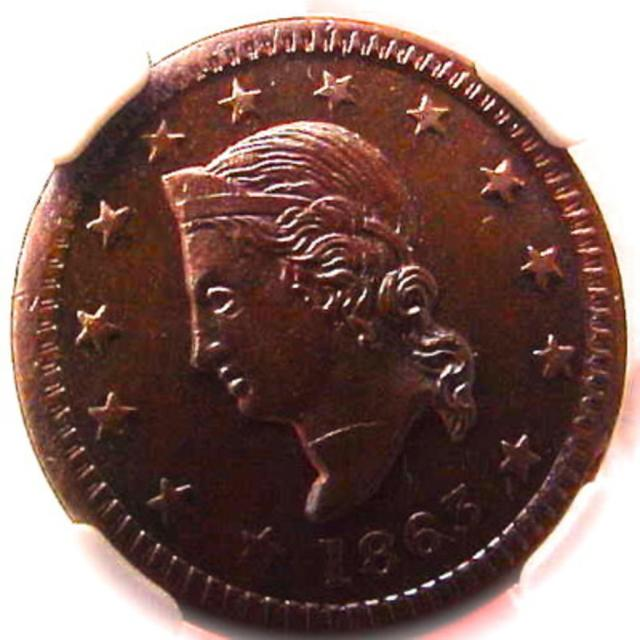Coin: (0, 3, 614, 622)
